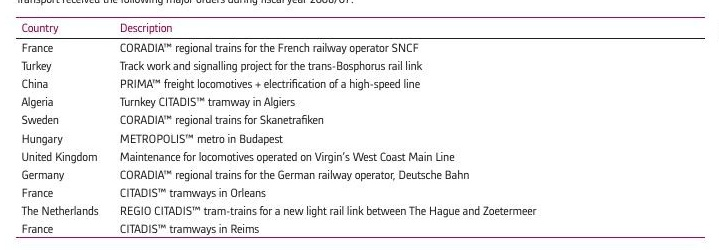table: (0, 0, 719, 250)
